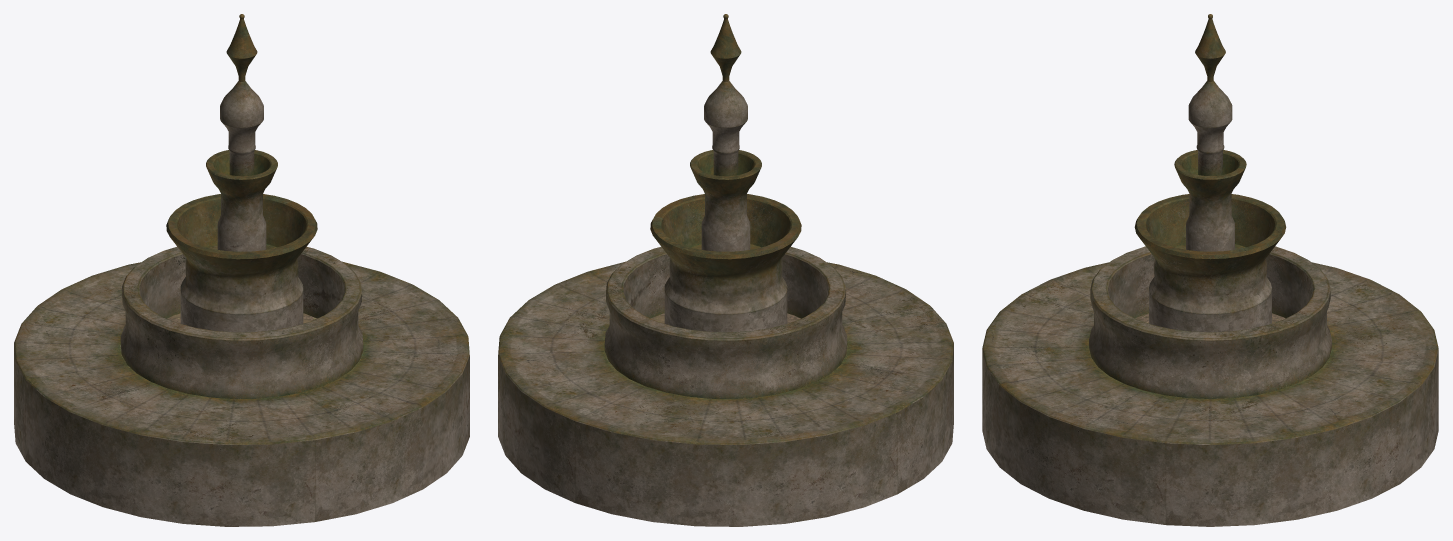
Rendered from medieval_fountain_empty.glb.
3 views of the same model, side by side, from view 1: azimuth 30°, elevation 25°; view 2: azimuth 150°, elevation 25°; view 3: azimuth 270°, elevation 25° (orthographic).
Parts seen in each view (by area): view 1: Object_2, Object_3, Object_4, Object_5, Object_6, Object_7; view 2: Object_2, Object_3, Object_4, Object_5, Object_6, Object_7; view 3: Object_2, Object_3, Object_4, Object_5, Object_6, Object_7.
Part boxes in pixels (bbox=[...]): Object_2: bbox=[14, 261, 469, 444]; Object_3: bbox=[14, 343, 469, 526]; Object_4: bbox=[120, 246, 363, 398]; Object_5: bbox=[166, 194, 317, 332]; Object_6: bbox=[206, 150, 277, 251]; Object_7: bbox=[220, 14, 263, 176]; Object_2: bbox=[498, 261, 953, 444]; Object_3: bbox=[498, 343, 953, 526]; Object_4: bbox=[604, 246, 847, 398]; Object_5: bbox=[650, 194, 801, 332]; Object_6: bbox=[690, 150, 761, 251]; Object_7: bbox=[704, 14, 747, 176]; Object_2: bbox=[982, 262, 1438, 444]; Object_3: bbox=[982, 350, 1438, 526]; Object_4: bbox=[1089, 246, 1331, 398]; Object_5: bbox=[1134, 194, 1286, 332]; Object_6: bbox=[1174, 150, 1246, 251]; Object_7: bbox=[1188, 14, 1232, 175].
Bounding box in the file's own units: 250 × 252 × 250.
Materials: 6 (6 with a texture image).
